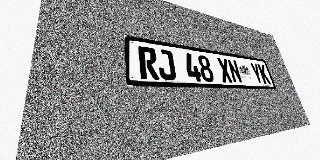4: (183, 53, 202, 81)
8: (197, 55, 215, 82)
J: (156, 49, 177, 80)
K: (257, 63, 271, 84)
N: (227, 59, 243, 83)
R: (138, 46, 159, 80)
X: (216, 57, 233, 83)
Y: (249, 62, 264, 84)
